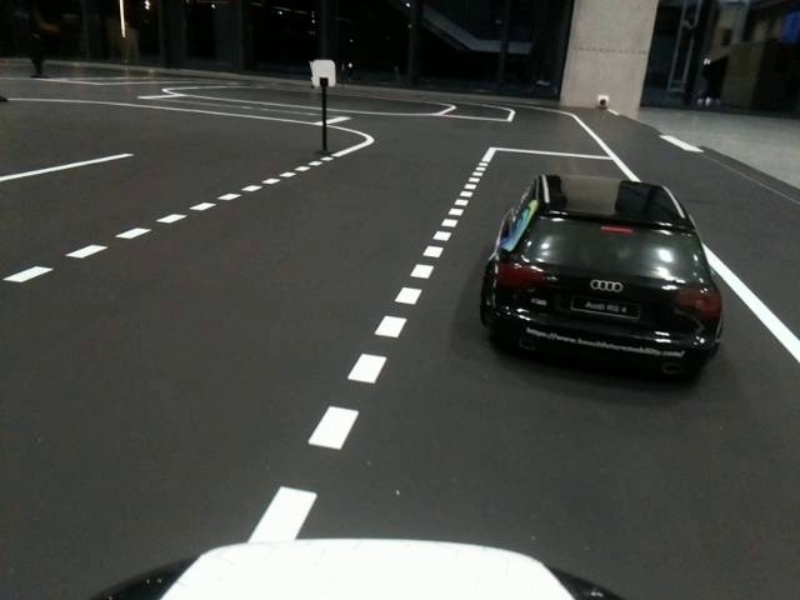car: (471, 162, 739, 407)
